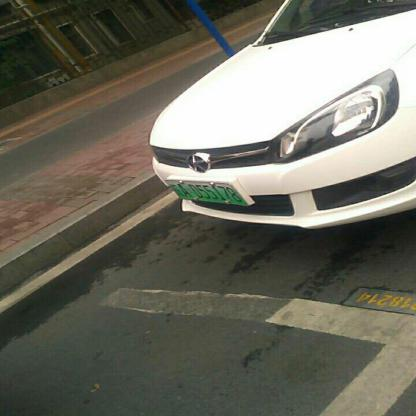lp: (168, 182, 246, 206)
